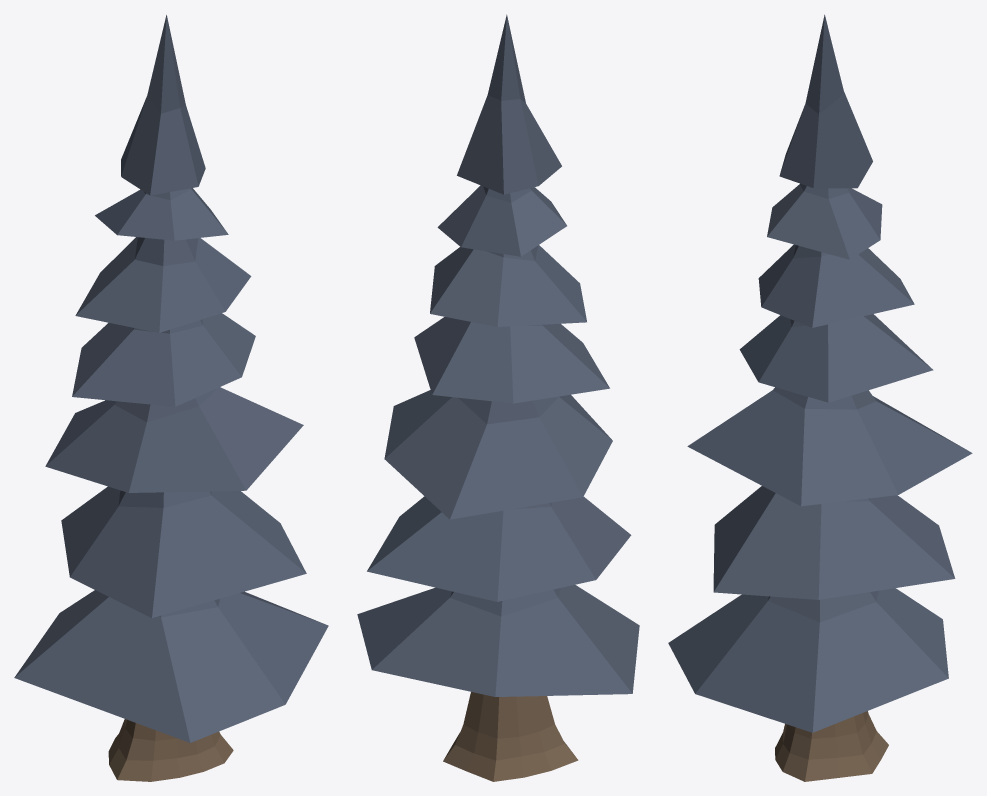
The model's file is P_fir_02_LD.fbx.
3 views of the same model, side by side, from view 1: azimuth 30°, elevation 25°; view 2: azimuth 150°, elevation 25°; view 3: azimuth 270°, elevation 25° (orthographic).
Parts seen in each view (by area): view 1: P_fir_02; view 2: P_fir_02; view 3: P_fir_02.
Part boxes in pixels (bbox=[...]): P_fir_02: bbox=[14, 15, 328, 781]; P_fir_02: bbox=[357, 14, 639, 781]; P_fir_02: bbox=[668, 14, 972, 781].
Size of the model in its own units: 681 by 1635 by 610.
